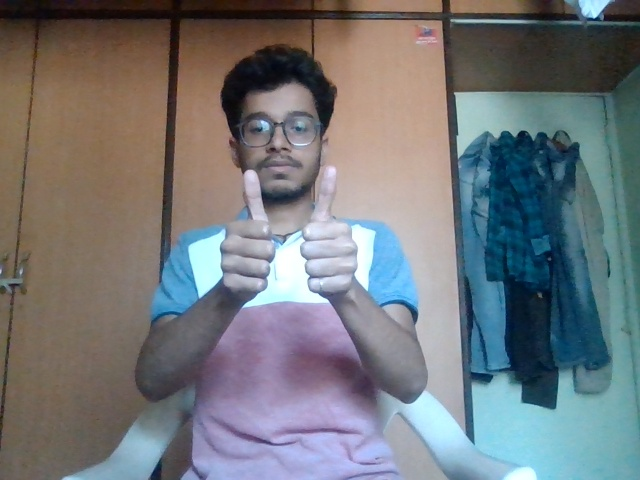thank-you: (216, 159, 360, 324)
